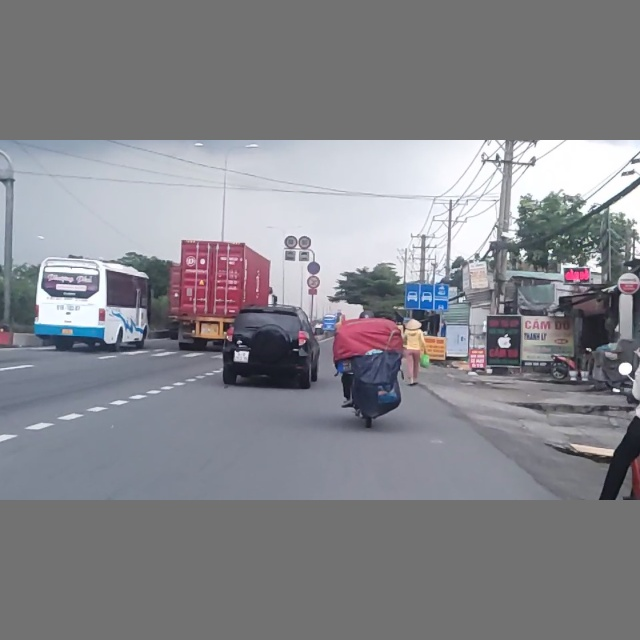P.111: (307, 276, 320, 288)
P.130: (306, 261, 321, 275)
R.415a: (405, 283, 449, 310)
